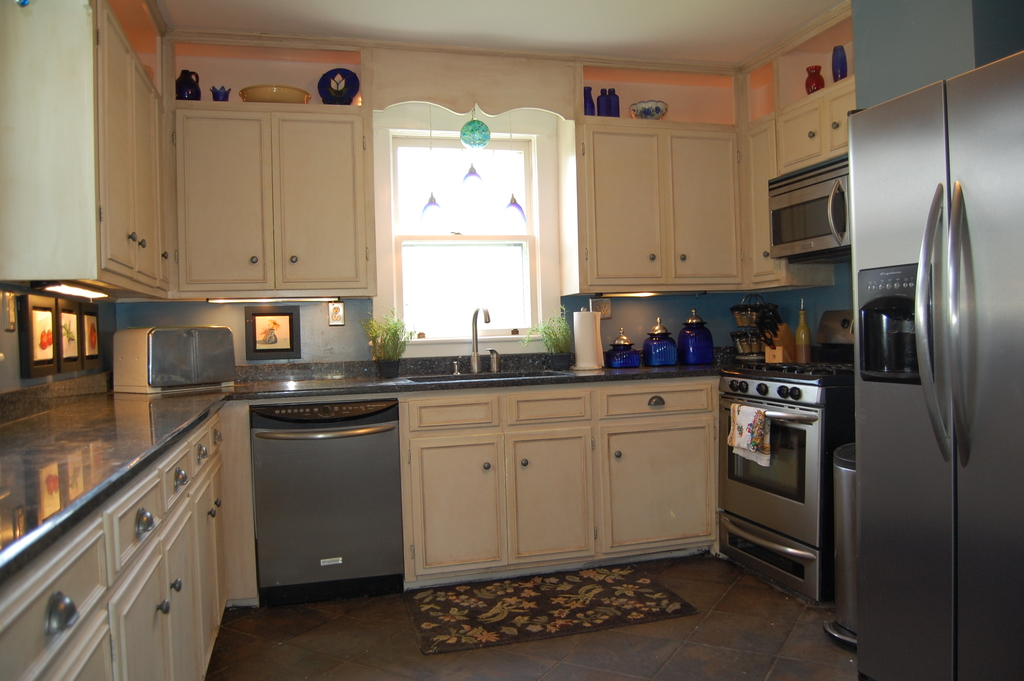cabinet door: (603, 421, 717, 541), (178, 120, 264, 279), (278, 125, 358, 281), (589, 124, 664, 290), (413, 440, 502, 564), (670, 128, 737, 273), (510, 439, 586, 550), (99, 43, 134, 253), (136, 91, 164, 276), (18, 568, 110, 621), (164, 534, 202, 639), (130, 578, 168, 681), (610, 387, 716, 423), (744, 135, 771, 276), (196, 505, 222, 594), (115, 498, 173, 533), (782, 114, 825, 149), (158, 458, 196, 494), (826, 102, 850, 146), (189, 433, 218, 464)
handle: (939, 184, 985, 453), (898, 197, 945, 455), (41, 594, 81, 634), (819, 187, 845, 243), (135, 510, 157, 534), (150, 598, 172, 622), (646, 388, 671, 409), (281, 245, 303, 268), (171, 468, 194, 489), (212, 491, 228, 517), (168, 579, 190, 597), (247, 253, 262, 272), (647, 248, 660, 269), (675, 249, 695, 262), (198, 443, 210, 463), (206, 506, 221, 522), (806, 123, 818, 142), (123, 225, 136, 242), (476, 461, 495, 472), (829, 118, 845, 130), (514, 457, 532, 467), (614, 448, 626, 462), (137, 236, 147, 250), (159, 247, 168, 261)
refrigerator door: (852, 112, 952, 678), (946, 89, 1024, 680)
